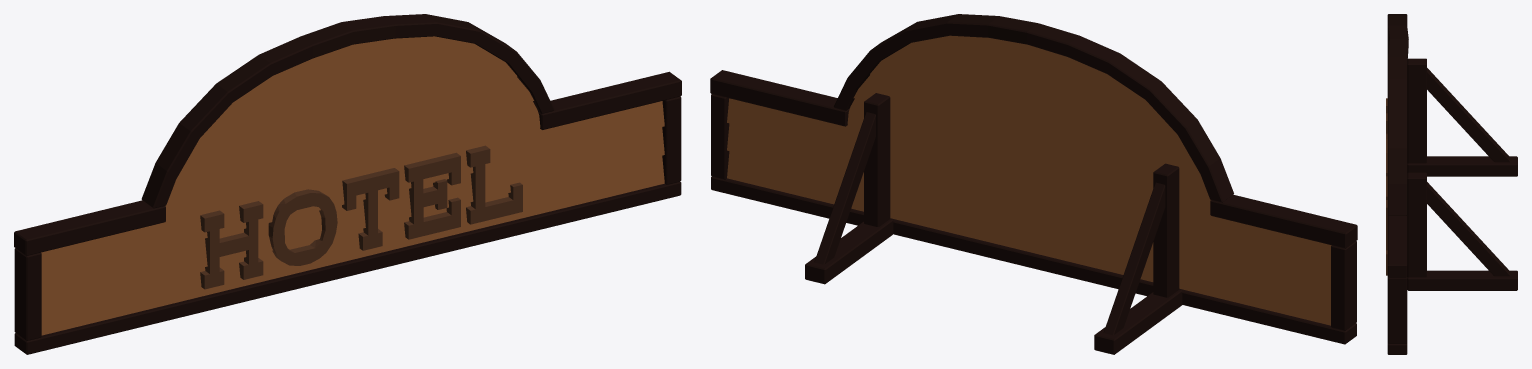
Rendered from ww_hotel_sign_b.glb.
The picture shows the model from 3 angles, left to right: view 1: azimuth 30°, elevation 25°; view 2: azimuth 150°, elevation 25°; view 3: azimuth 270°, elevation 25°; orthographic projection. The views are drawn at different scales.
Visible parts, largest first — view 1: Hotel_Sign_B; view 2: Hotel_Sign_B; view 3: Hotel_Sign_B.
Boxes of the visible parts, x1,y1,x2,y2 form: Hotel_Sign_B: (14, 14, 681, 354); Hotel_Sign_B: (710, 14, 1357, 354); Hotel_Sign_B: (1386, 14, 1517, 354).
Size of the model in its own units: 10.56 by 3.75 by 2.34.
